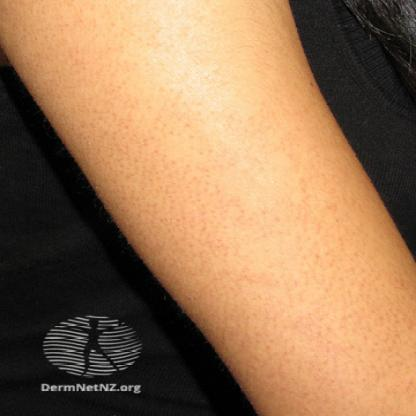Chicken Skin: (4, 8, 365, 413), (289, 161, 416, 396)
